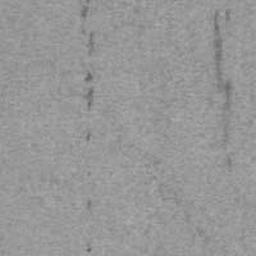Inclusion: (209, 10, 234, 173), (77, 0, 96, 56), (82, 69, 96, 110), (224, 10, 232, 23), (86, 197, 93, 209), (86, 243, 93, 253), (86, 132, 92, 141)
